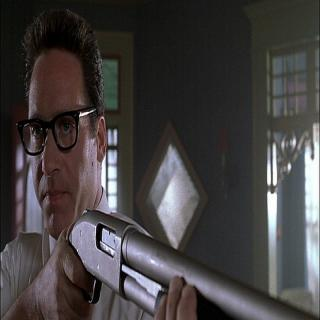gun: (58, 200, 316, 319)
